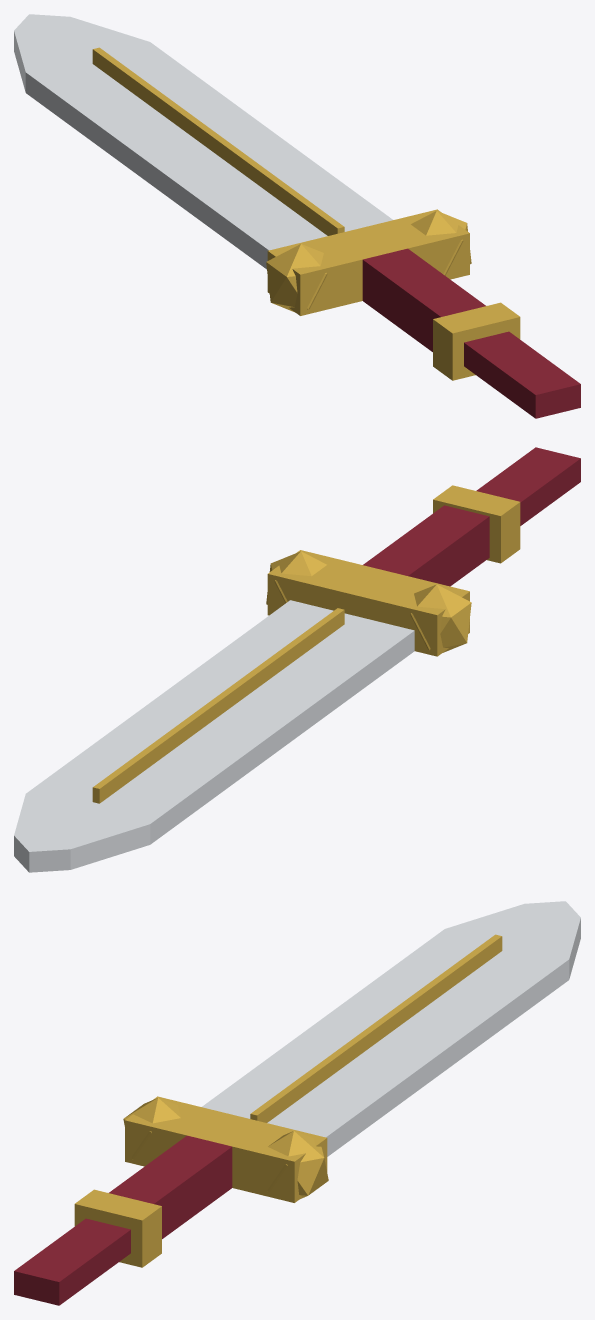
The model's file is liu_bei_sword.glb.
The picture shows the model from 3 angles, top to bottom: view 1: azimuth 30°, elevation 25°; view 2: azimuth 150°, elevation 25°; view 3: azimuth 330°, elevation 25°; orthographic projection.
Parts seen in each view (by area): view 1: liu_bei_sword_mesh; view 2: liu_bei_sword_mesh; view 3: liu_bei_sword_mesh.
Part boxes in pixels (left/top/right/bottom): liu_bei_sword_mesh: left=14, top=14, right=580, bottom=418; liu_bei_sword_mesh: left=14, top=447, right=580, bottom=872; liu_bei_sword_mesh: left=14, top=901, right=580, bottom=1305.
Bounding box in the file's own units: 0.3473 × 0.12 × 1.62.
